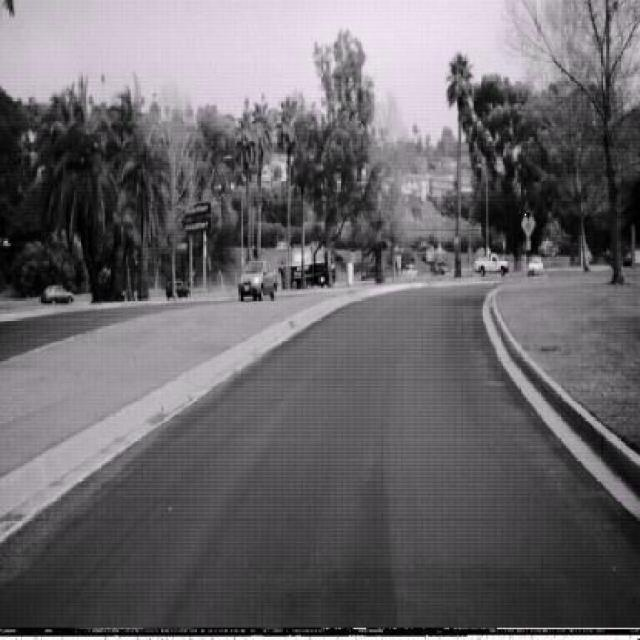stopAhead: (520, 207, 537, 240)
